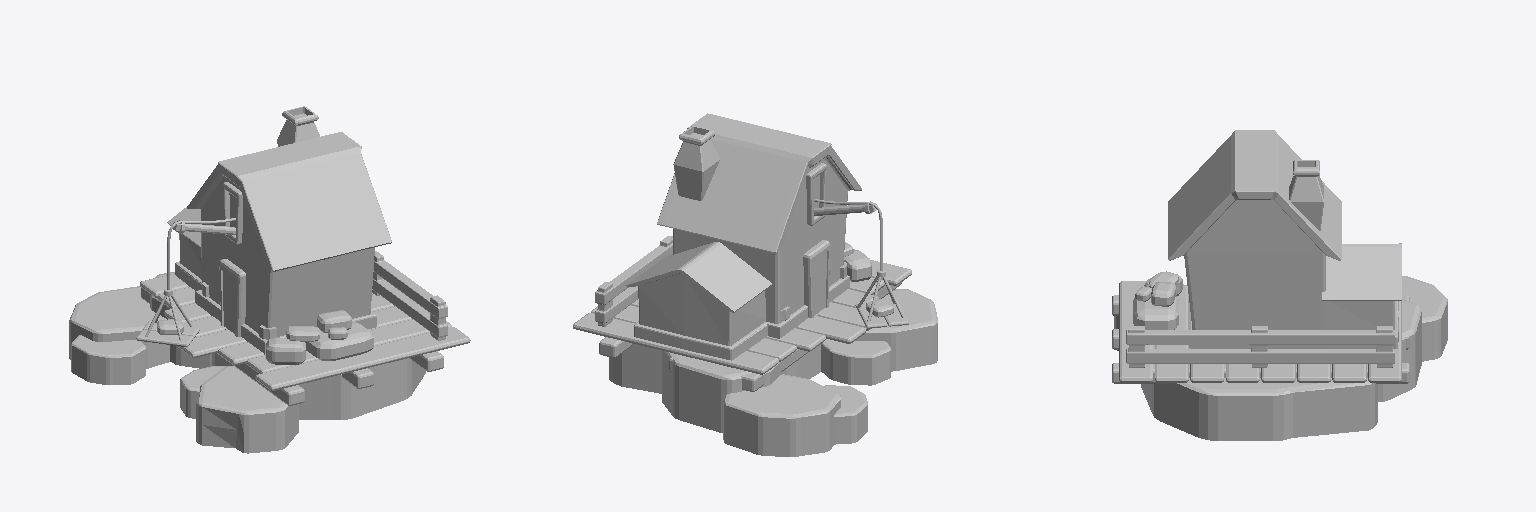
3 views of the same model, side by side, from view 1: azimuth 30°, elevation 25°; view 2: azimuth 150°, elevation 25°; view 3: azimuth 270°, elevation 25° (orthographic).
Visible parts, largest first — view 1: structure, Cylinder.006, Cylinder.002, Cylinder.001, planche, Cylinder.003, barierre, porte, structure.001, pierre, planche.001, planche.002 (+10 smaller); view 2: structure, structure.001, Cylinder.001, Cylinder.004, Cylinder.006, Cylinder.005, Cylinder.002, cheminer, planche.007, barierre, Cylinder.003, porte (+8 smaller); view 3: structure, Cylinder.002, barierre, structure.001, Cylinder.001, Cylinder.004, cheminer, planche, planche.001, pierre, planche.007, planche.006 (+6 smaller).
Boxes of the visible parts, box(x1,y1,x2,y2) form: structure: box(187, 132, 391, 354); Cylinder.006: box(196, 366, 298, 453); Cylinder.002: box(212, 353, 425, 419); Cylinder.001: box(69, 286, 169, 368); planche: box(255, 327, 470, 390); Cylinder.003: box(71, 335, 145, 384); barierre: box(372, 251, 447, 340); porte: box(219, 259, 245, 336); structure.001: box(167, 207, 201, 290); pierre: box(305, 322, 373, 360); planche.001: box(246, 319, 451, 373); planche.002: box(178, 294, 393, 357); structure: box(657, 113, 861, 338); structure.001: box(626, 242, 771, 360); Cylinder.001: box(723, 374, 840, 456); Cylinder.004: box(662, 351, 785, 432); Cylinder.006: box(855, 289, 937, 371); Cylinder.005: box(821, 339, 890, 385); Cylinder.002: box(609, 343, 820, 393); cheminer: box(673, 126, 719, 200); planche.007: box(573, 313, 778, 374); barierre: box(595, 236, 672, 326); Cylinder.003: box(824, 385, 867, 444); porte: box(803, 240, 829, 317); structure: box(1168, 130, 1341, 348); Cylinder.002: box(1141, 345, 1377, 440); barierre: box(1126, 326, 1394, 367); structure.001: box(1322, 243, 1401, 348); Cylinder.001: box(1402, 276, 1447, 361); Cylinder.004: box(1378, 299, 1421, 401); cheminer: box(1289, 160, 1323, 230); planche: box(1119, 281, 1152, 382); planche.001: box(1155, 286, 1188, 382); pierre: box(1133, 296, 1178, 329); planche.007: box(1368, 301, 1401, 382); planche.006: box(1332, 364, 1366, 382).
Bounding box in the file's own units: 6.14 × 5.13 × 6.54.